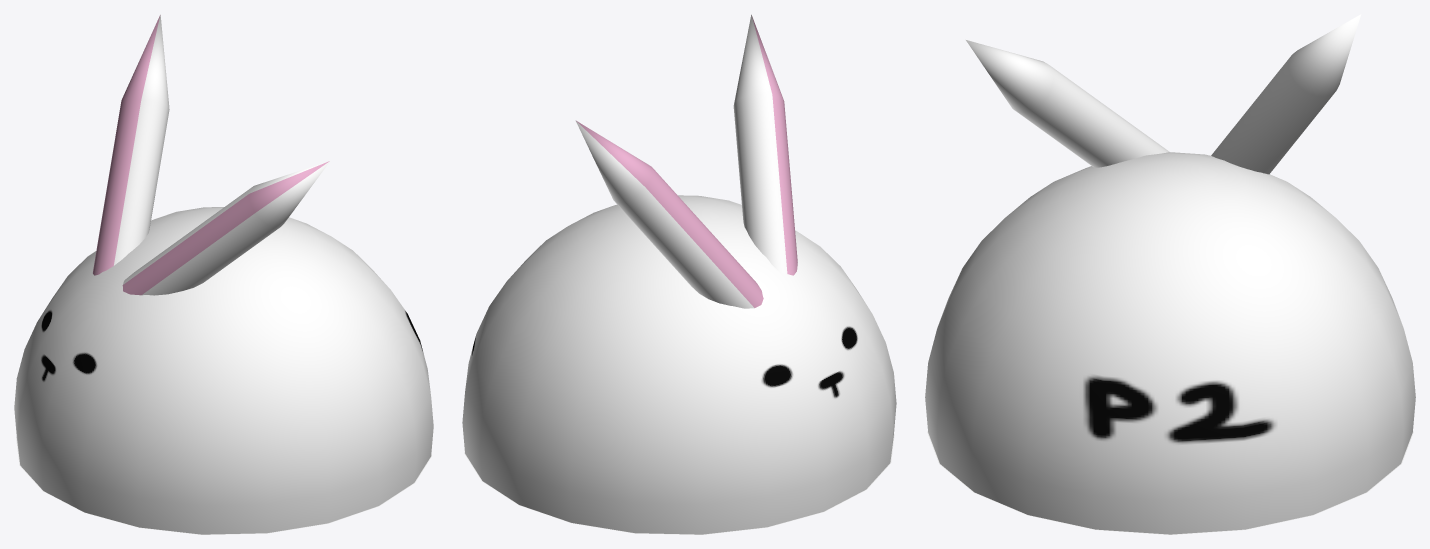
File: player2model.fbx
3 views of the same model, side by side, from view 1: azimuth 30°, elevation 25°; view 2: azimuth 150°, elevation 25°; view 3: azimuth 270°, elevation 25° (orthographic). The views are drawn at different scales.
Visible parts, largest first — view 1: pSphere1, pCylinder1, pasted__pCylinder1, pCylinder2; view 2: pSphere1, pCylinder1, pasted__pCylinder1, pCylinder2; view 3: pSphere1, pasted__pCylinder1, pCylinder1, pCylinder2.
Boxes of the visible parts, box(x1,y1,x2,y2) form: pSphere1: box(14, 207, 433, 534); pCylinder1: box(93, 14, 169, 275); pasted__pCylinder1: box(122, 160, 330, 295); pCylinder2: box(16, 437, 431, 534); pSphere1: box(462, 195, 896, 534); pCylinder1: box(575, 120, 763, 308); pasted__pCylinder1: box(733, 14, 797, 275); pCylinder2: box(464, 434, 894, 534); pSphere1: box(925, 152, 1415, 534); pasted__pCylinder1: box(966, 40, 1169, 167); pCylinder1: box(1211, 14, 1361, 174); pCylinder2: box(927, 431, 1413, 534).
Size of the model in its own units: 2 by 1.93 by 2.
